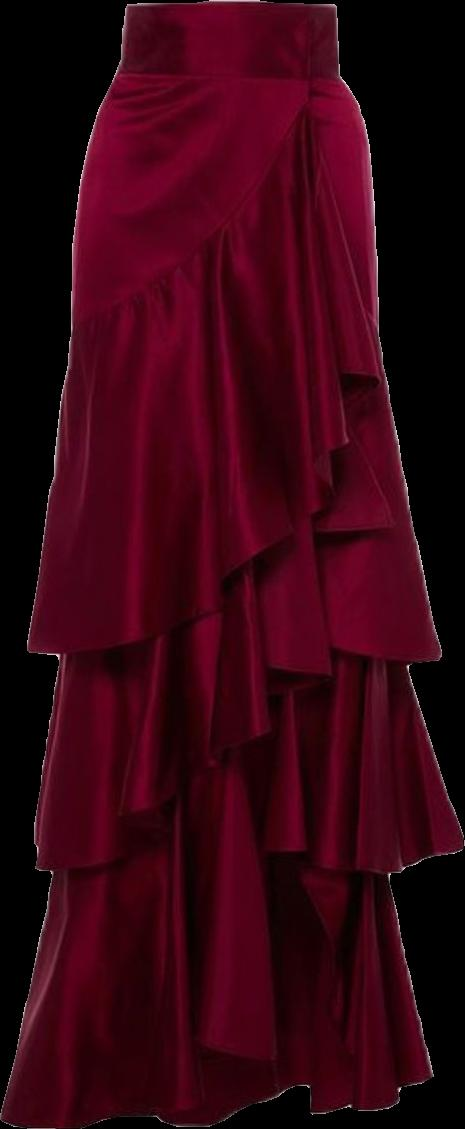Hemline: (0, 835, 464, 1128), (15, 371, 392, 657), (28, 637, 447, 871)
Waistline: (67, 87, 313, 336), (111, 64, 347, 88), (120, 0, 340, 12)
